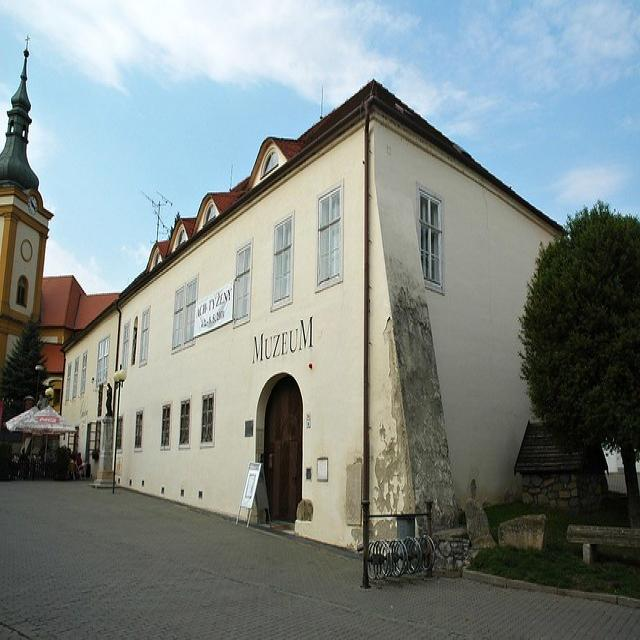Normal_building: (64, 71, 577, 563)
